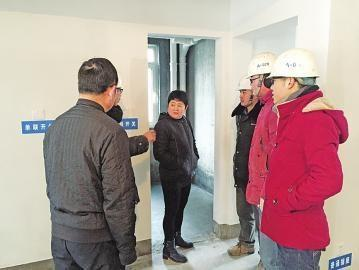NoHelmet: (74, 57, 119, 114), (166, 89, 190, 120)
